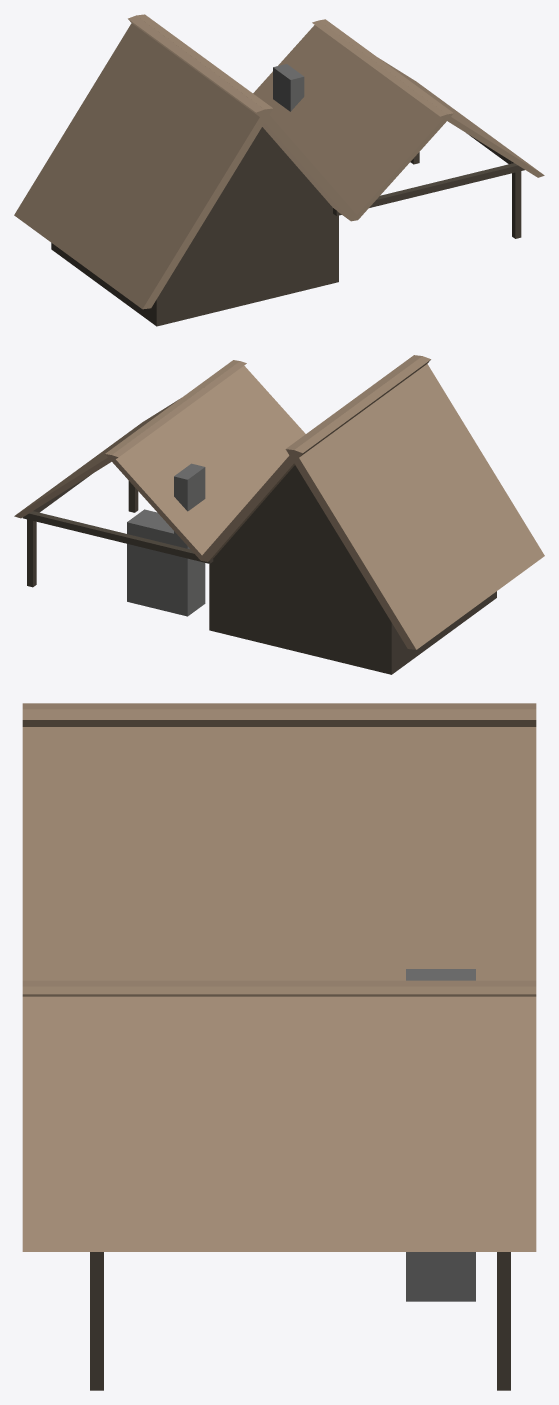
Rendered from CelticBlackSmithModel.glb.
3 renders of one model, top to bottom at view 1: azimuth 30°, elevation 25°; view 2: azimuth 150°, elevation 25°; view 3: azimuth 270°, elevation 25°, orthographic. The views are drawn at different scales.
Parts seen in each view (by area): view 1: Blacksmith; view 2: Blacksmith; view 3: Blacksmith.
Boxes of the visible parts, box(x1,y1,x2,y2) form: Blacksmith: box(14, 14, 544, 326); Blacksmith: box(14, 355, 544, 674); Blacksmith: box(22, 703, 536, 1390).
Bounding box in the file's own units: 13.24 × 6.51 × 7.32.
